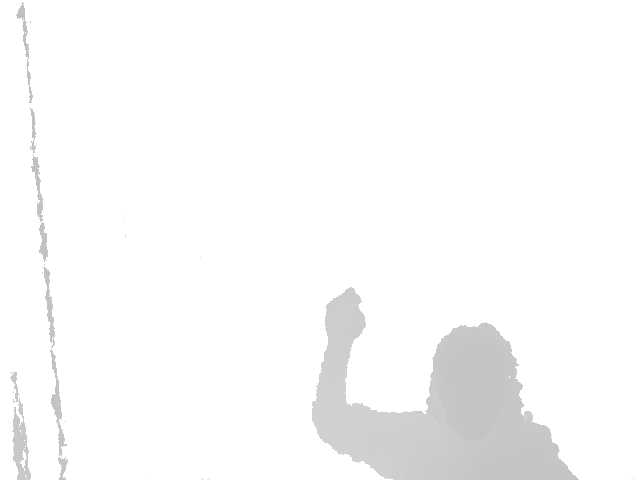hand: (324, 287, 367, 348)
head: (427, 322, 524, 439)
person: (310, 287, 581, 480)
